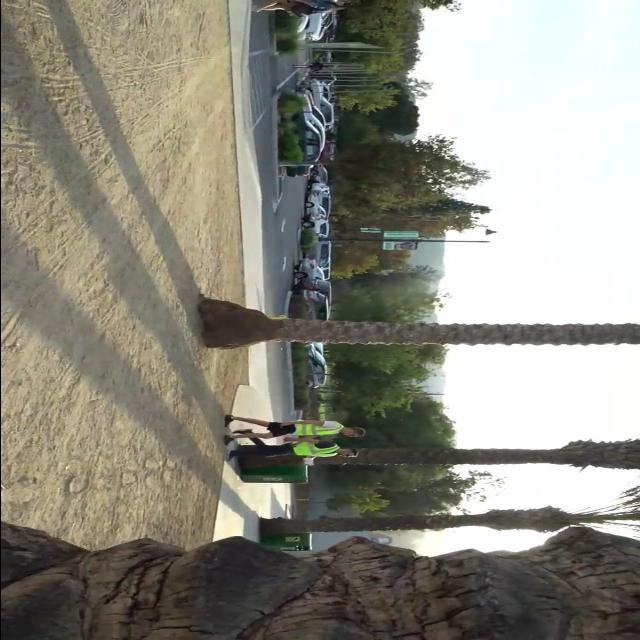jacket: (293, 440, 344, 466), (285, 418, 344, 440)
